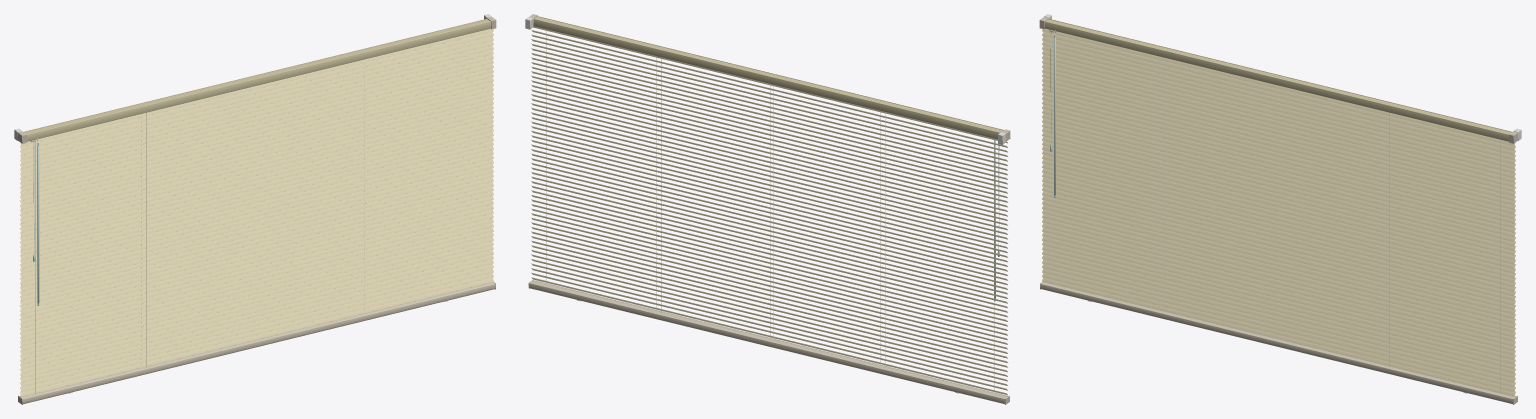
The model's file is Kit_MiniBlind_Lowered.fbx.
The picture shows the model from 3 angles, left to right: view 1: azimuth 30°, elevation 25°; view 2: azimuth 150°, elevation 25°; view 3: azimuth 330°, elevation 25°; orthographic projection.
Parts seen in each view (by area): view 1: Kit_MiniBlind_Lowered_LOD0; view 2: Kit_MiniBlind_Lowered_LOD0; view 3: Kit_MiniBlind_Lowered_LOD0.
Boxes of the visible parts, box(x1,y1,x2,y2) form: Kit_MiniBlind_Lowered_LOD0: box(14, 14, 496, 404); Kit_MiniBlind_Lowered_LOD0: box(525, 14, 1010, 404); Kit_MiniBlind_Lowered_LOD0: box(1039, 14, 1521, 404).
Size of what is drawn, in the model's own units: 2.4 by 1.31 by 0.0762.
